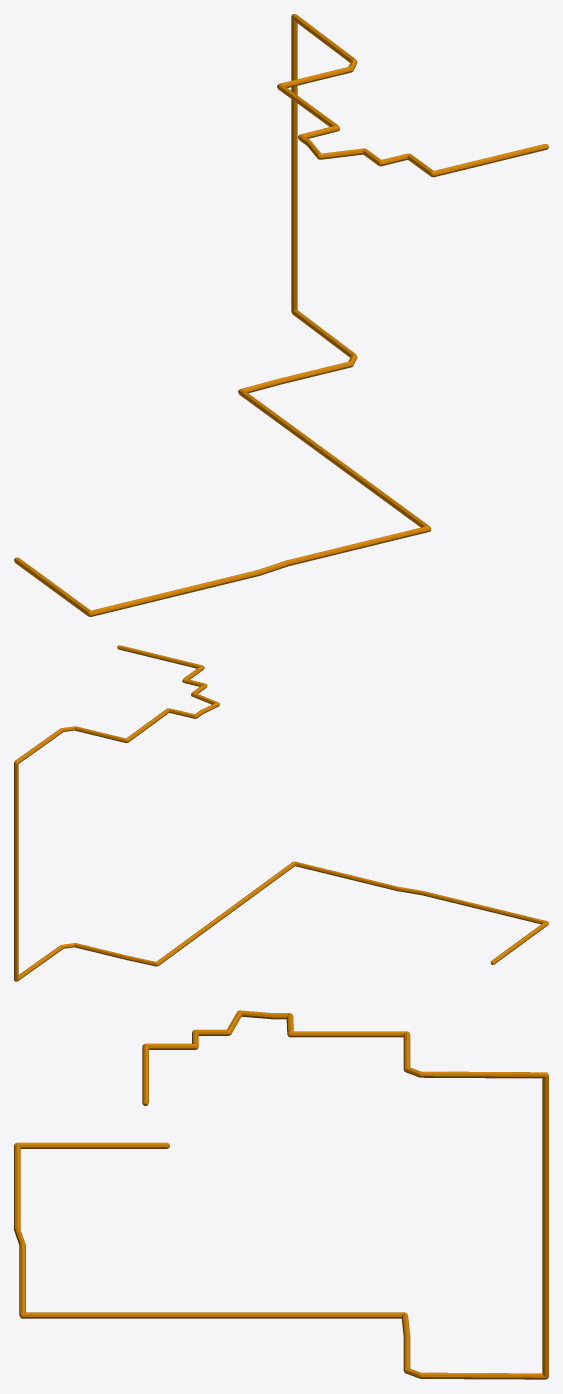
3 views of the same model, one above another, from view 1: azimuth 30°, elevation 25°; view 2: azimuth 150°, elevation 25°; view 3: azimuth 270°, elevation 25° (orthographic). The views are drawn at different scales.
Size of the model in its own units: 1860 by 1020 by 1610.
